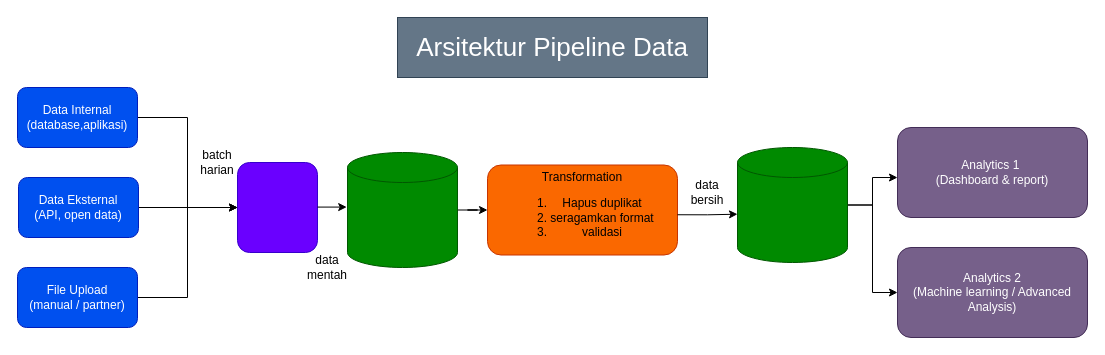
Image size: 1105x355. Some labels were removed from this diagram. The box of each missing label's shape, as (x1, y1, x2, y2) in pixels:
Ingestion (ETL/ELT): (236, 162, 318, 252)
Raw Storage (data lake / landing zone): (346, 152, 458, 268)
Warehouse (data terstruktur): (736, 146, 848, 262)
